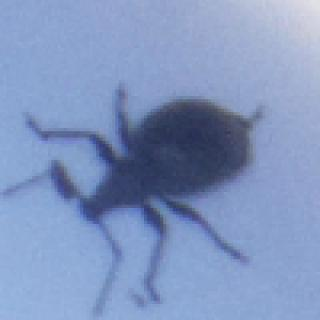bvw: (6, 80, 269, 318)
